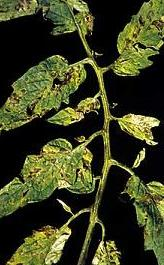Tomato Septoria leaf spot: (0, 135, 102, 229), (0, 52, 86, 142), (115, 165, 164, 265), (109, 0, 164, 79), (0, 225, 76, 265), (0, 0, 55, 29)
